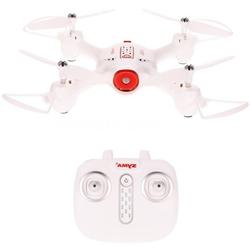drone: (2, 5, 249, 122)
